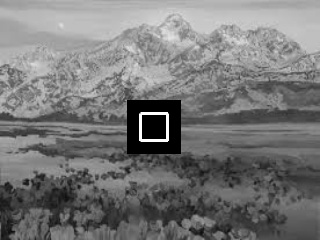square: (127, 100, 181, 154)
